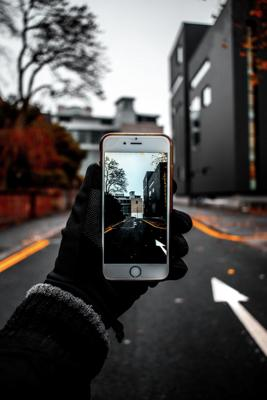Mobile Phone: (98, 131, 172, 282)
